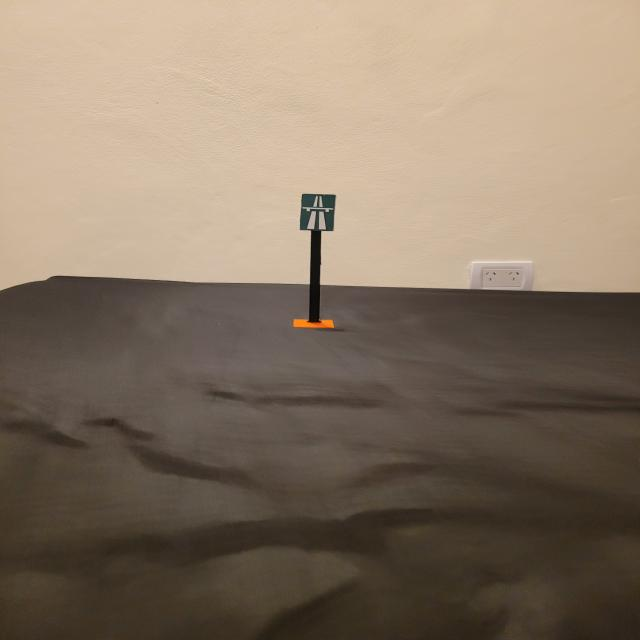highway_entrance: (300, 192, 338, 232)
